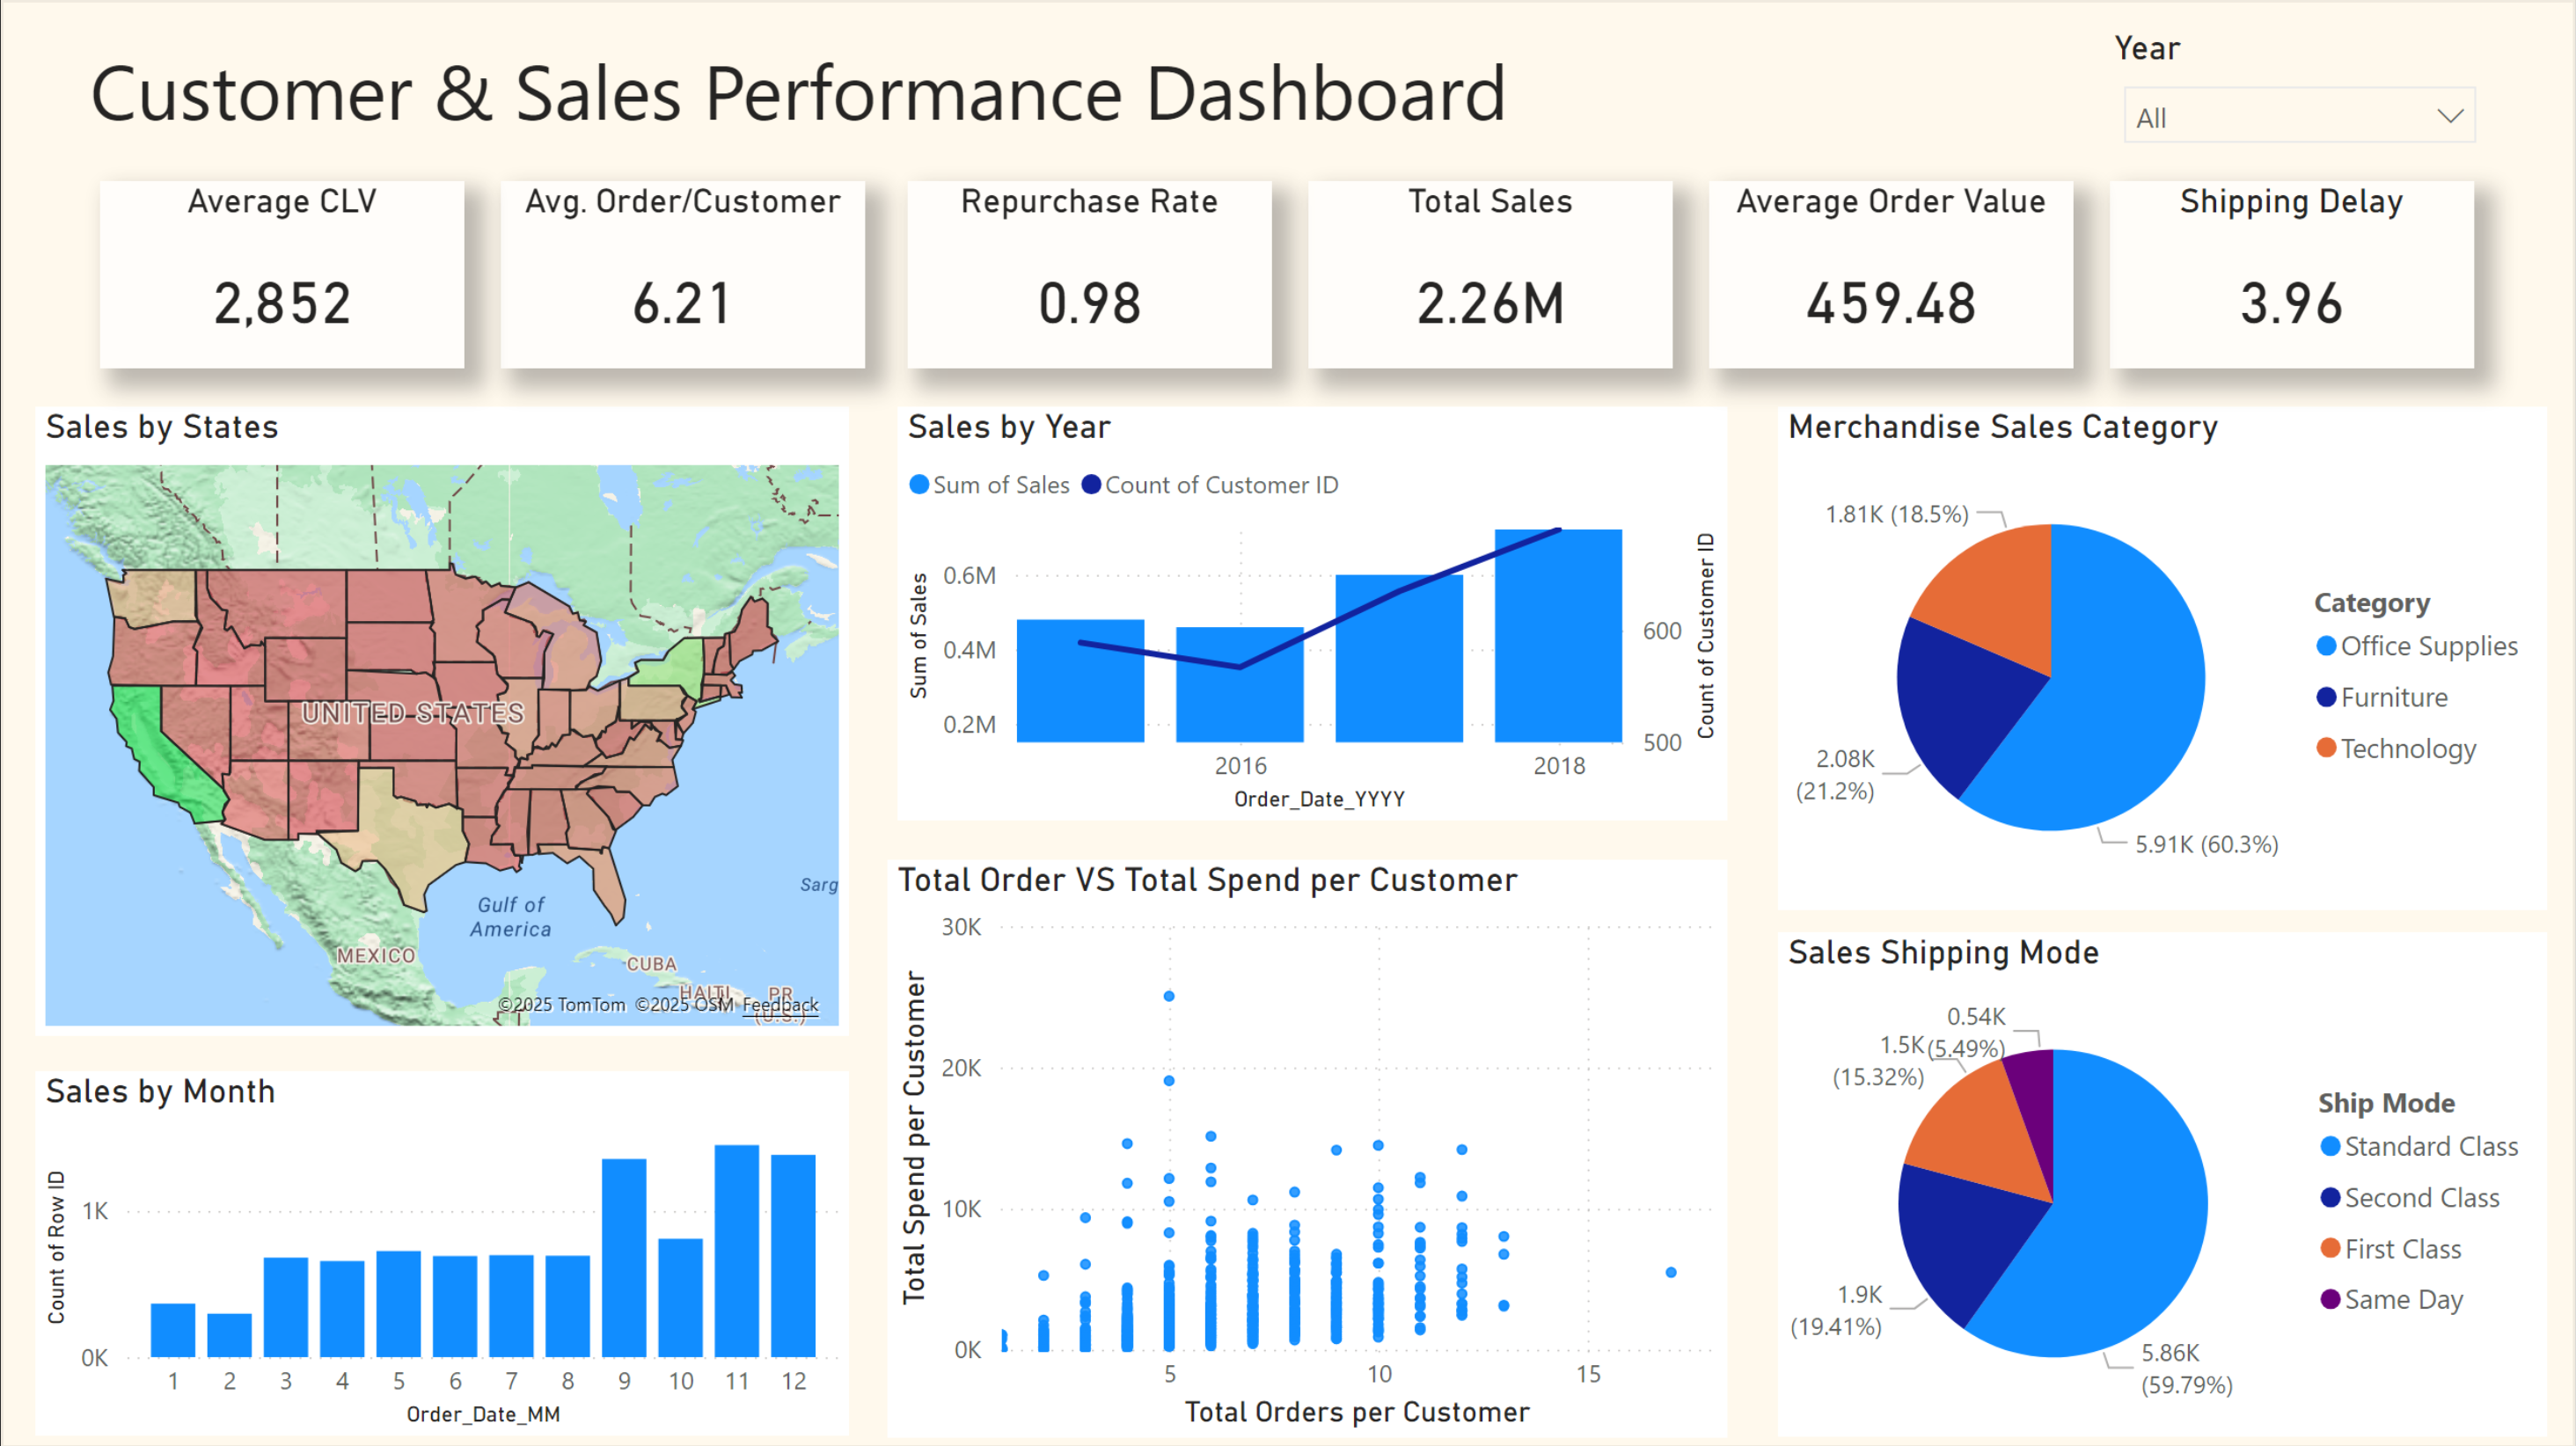

The dashboard page shown, as its layout file describes it:
{"tool":"powerbi","page":{"name":"Page 1","canvas":[1280,720],"ordinal":0},"visuals":[{"type":"azureMap","title":"Sales by States","fields":{"Category":["Merchandising_Data_Clean 3.State"]},"box":[21.2,202.2,402,312.7],"z":0},{"type":"pieChart","title":"Merchandise Sales Category","fields":{"Category":["Merchandising_Data_Clean 3.Category","Merchandising_Data_Clean 3.Sub-Category"],"Y":["CountNonNull(Merchandising_Data_Clean 3.Row ID)"]},"box":[881.5,202.2,380,250],"z":1000},{"type":"card","title":"Shipping Delay","fields":{"Values":["Avg(Merchandising_Data_Clean 3.Ship_Delay_Days)"]},"box":[1045.8,89.8,179.8,92.9],"z":2000},{"type":"slicer","title":"Year","fields":{"Values":["Merchandising_Data_Clean 3.Order_Date_YYYY"]},"box":[1042.6,14.1,193.9,76.4],"z":3000},{"type":"columnChart","title":"Sales by Month","fields":{"Category":["Merchandising_Data_Clean 3.Order_Date_MM"],"Y":["CountNonNull(Merchandising_Data_Clean 3.Row ID)"]},"box":[21.2,532.5,402,181],"z":4000},{"type":"card","title":"Avg. Order/Customer","fields":{"Values":["Merchandising_Data_Clean 3.Avg Orders per Customer"]},"box":[251.2,90.3,180,92.9],"z":5000},{"type":"pieChart","title":"Sales Shipping Mode","fields":{"Category":["Merchandising_Data_Clean 3.Ship Mode"],"Y":["CountNonNull(Merchandising_Data_Clean 3.Row ID)"]},"box":[881.5,463.1,380,250.4],"z":6000},{"type":"card","title":"Repurchase Rate","fields":{"Values":["Merchandising_Data_Clean 3.Repurchase Rate"]},"box":[452.2,90.3,180,92.9],"z":7000},{"type":"card","title":"Total Sales","fields":{"Values":["Sum(Merchandising_Data_Clean 3.Sales)"]},"box":[649.7,90.3,180,92.9],"z":8000},{"type":"lineStackedColumnComboChart","title":"Sales by Year","fields":{"Category":["Merchandising_Data_Clean 3.Order_Date_YYYY"],"Y":["Sum(Merchandising_Data_Clean 3.Sales)"],"Y2":["Count(Merchandising_Data_Clean 3.Customer ID)"]},"box":[446.6,202.2,410.2,205.7],"z":9000},{"type":"card","title":"Average Order Value","fields":{"Values":["Merchandising_Data_Clean 3.Average Order Value"]},"box":[848.3,90.3,180,92.9],"z":10000},{"type":"card","title":"Average CLV","fields":{"Values":["Merchandising_Data_Clean 3.Average CLV"]},"box":[52.6,90.3,180,92.9],"z":11000},{"type":"scatterChart","title":"Total Order VS Total Spend per Customer","fields":{"X":["Merchandising_Data_Clean 3.Total Orders per Customer"],"Category":["Merchandising_Data_Clean 3.Customer ID"],"Y":["Merchandising_Data_Clean 3.Total Spend per Customer"]},"box":[441.9,426.7,414.9,286.8],"z":12000},{"type":"textbox","box":[43.5,14.1,726.4,69.3],"z":13000}]}

Visuals, with their boxes in screenshot pixels (x1, y1, x2, y2), scaled from the page's 1280x720 canvas onto the 2576x1446 screenshot:
"Sales by States" azureMap: BBox(42, 406, 852, 1034)
"Merchandise Sales Category" pieChart: BBox(1774, 406, 2539, 909)
"Shipping Delay" card: BBox(2104, 180, 2467, 367)
"Year" slicer: BBox(2098, 28, 2488, 182)
"Sales by Month" columnChart: BBox(42, 1070, 852, 1433)
"Avg. Order/Customer" card: BBox(506, 181, 867, 368)
"Sales Shipping Mode" pieChart: BBox(1774, 930, 2539, 1433)
"Repurchase Rate" card: BBox(910, 181, 1272, 368)
"Total Sales" card: BBox(1307, 181, 1670, 368)
"Sales by Year" lineStackedColumnComboChart: BBox(899, 406, 1724, 819)
"Average Order Value" card: BBox(1707, 181, 2069, 368)
"Average CLV" card: BBox(106, 181, 468, 368)
"Total Order VS Total Spend per Customer" scatterChart: BBox(889, 857, 1724, 1433)
textbox: BBox(88, 28, 1549, 167)
